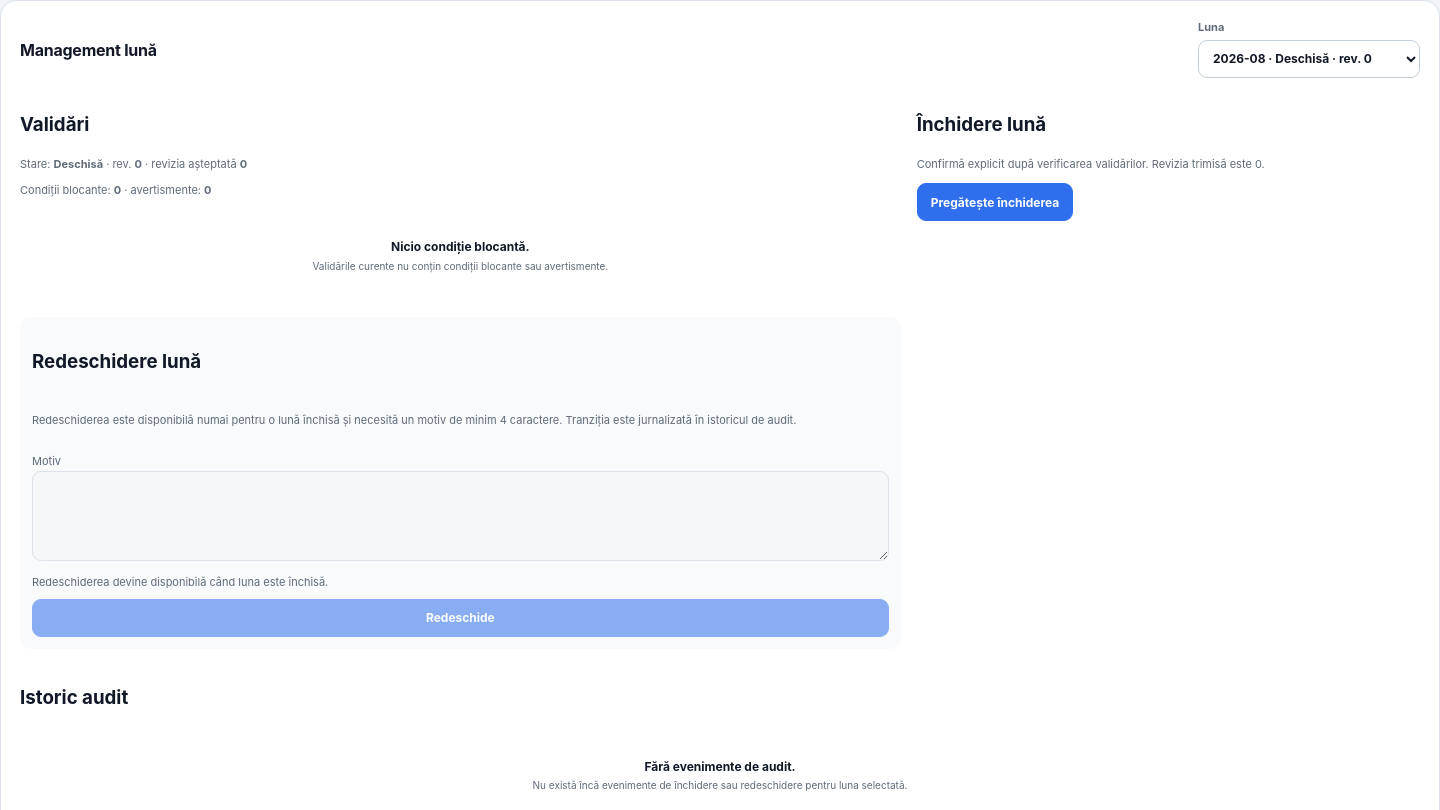
Scenario: Management month reopen reason validation › reloads validations and exits confirmation when close hits STALE_REVISION
This screenshot has width=1440, height=810.
Click the button "Pregătește închiderea" at (995, 202), box 917,184 -> 1073,222
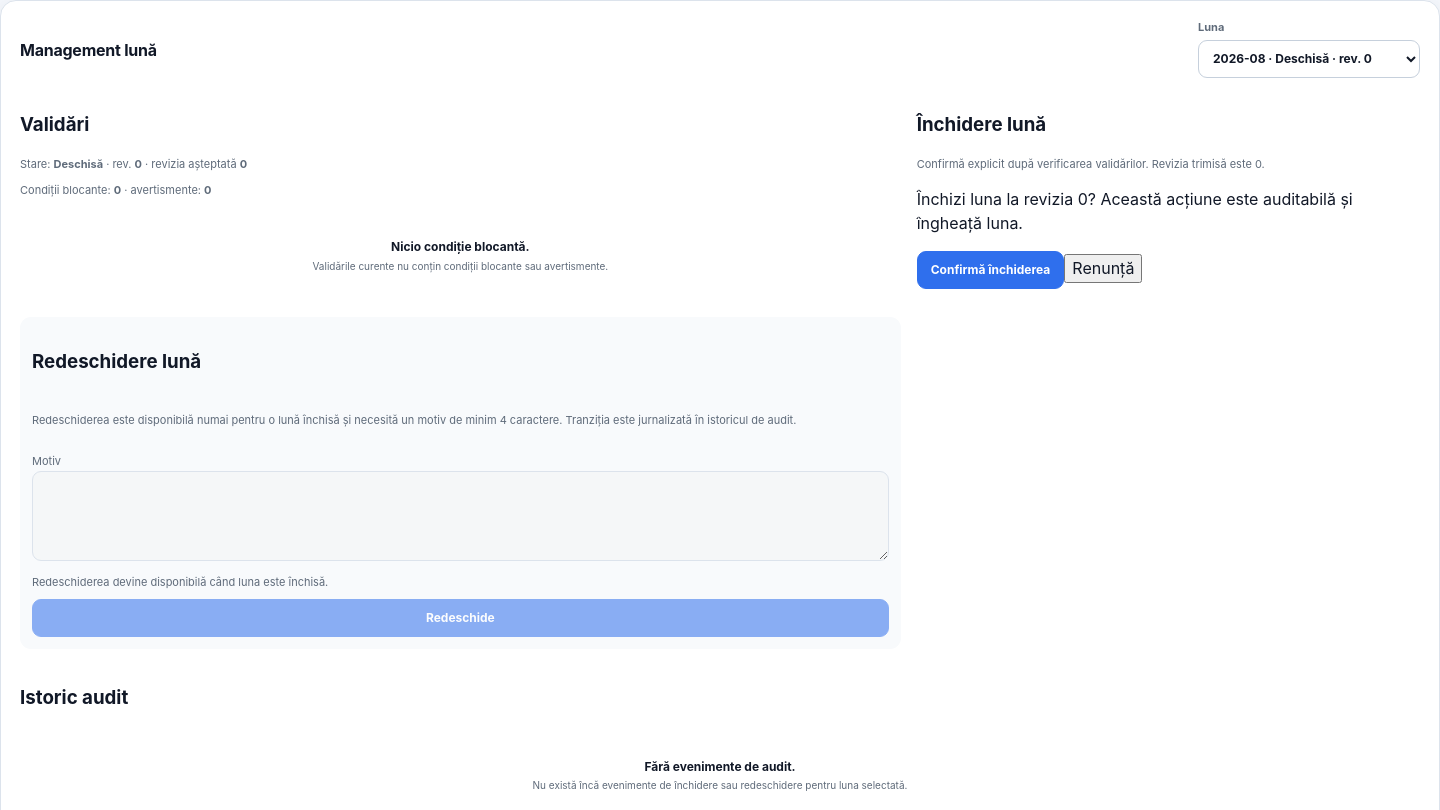
Click the button "Confirmă închiderea" at (990, 270), box 917,251 -> 1064,289
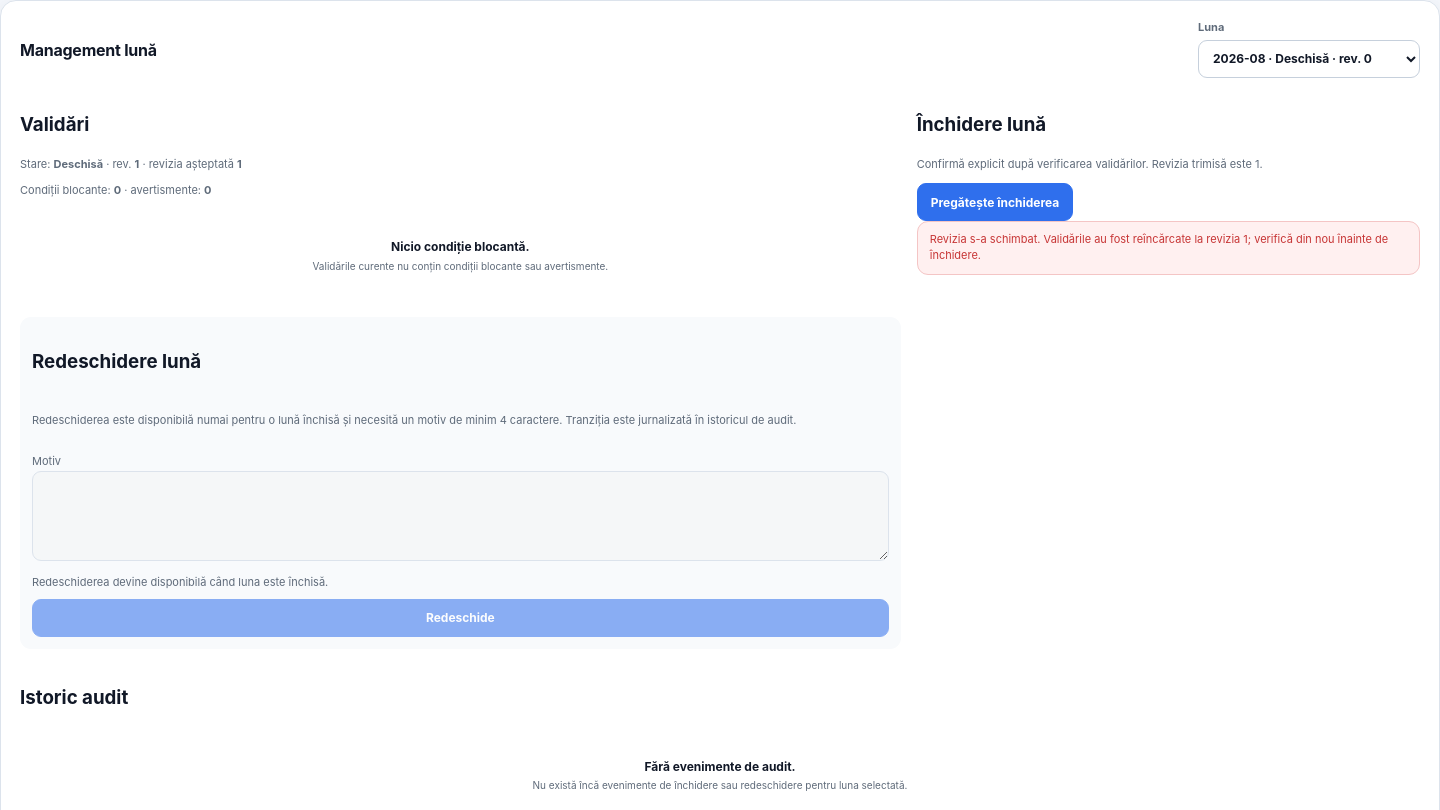
Expected: the button "Pregătește închiderea" is enabled, 917,184 -> 1073,222
Expected: the message shows "Validările au fost reîncărcate la revizia 1", 930,232 -> 1388,262
Expected: the dialog is gone
